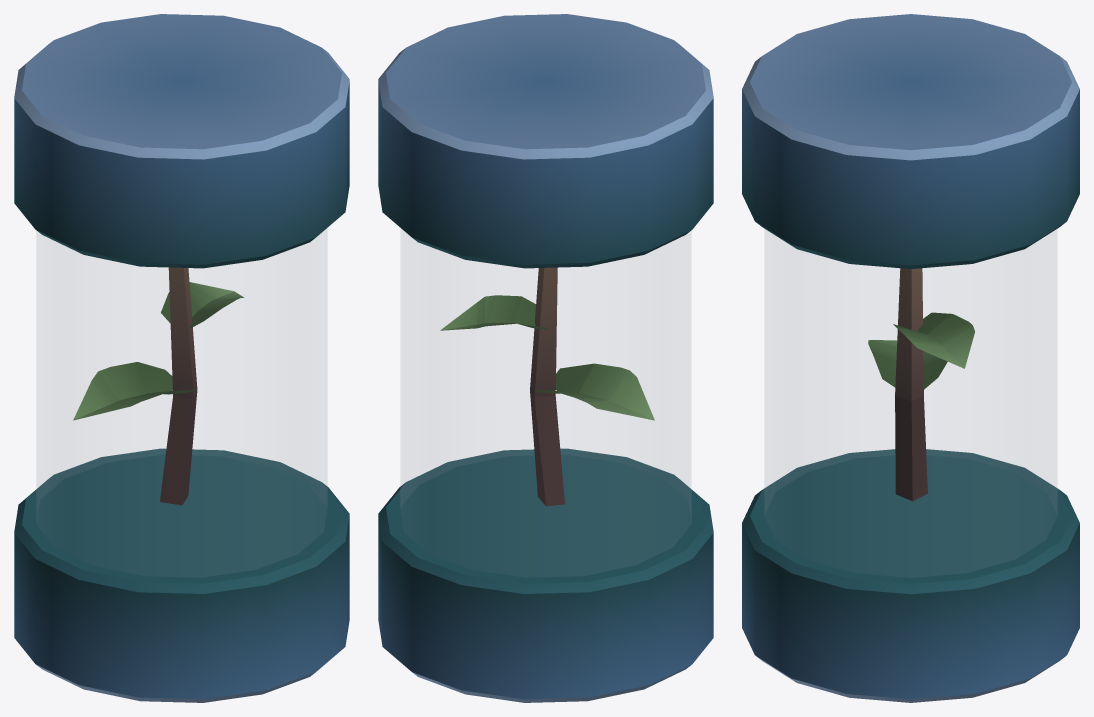
File: CapsuleSibJam.fbx
The picture shows the model from 3 angles, left to right: view 1: azimuth 30°, elevation 25°; view 2: azimuth 150°, elevation 25°; view 3: azimuth 270°, elevation 25°; orthographic projection.
Visible parts, largest first — view 1: Cylinder.003, Cylinder.004; view 2: Cylinder.003, Cylinder.004; view 3: Cylinder.003, Cylinder.004.
Part boxes in pixels (left/top/right/bottom): Cylinder.003: left=14, top=14, right=349, bottom=702; Cylinder.004: left=73, top=267, right=243, bottom=505; Cylinder.003: left=378, top=14, right=713, bottom=702; Cylinder.004: left=440, top=267, right=654, bottom=506; Cylinder.003: left=742, top=14, right=1079, bottom=702; Cylinder.004: left=868, top=268, right=974, bottom=501.
Size of the model in its own units: 112 by 202 by 112.
